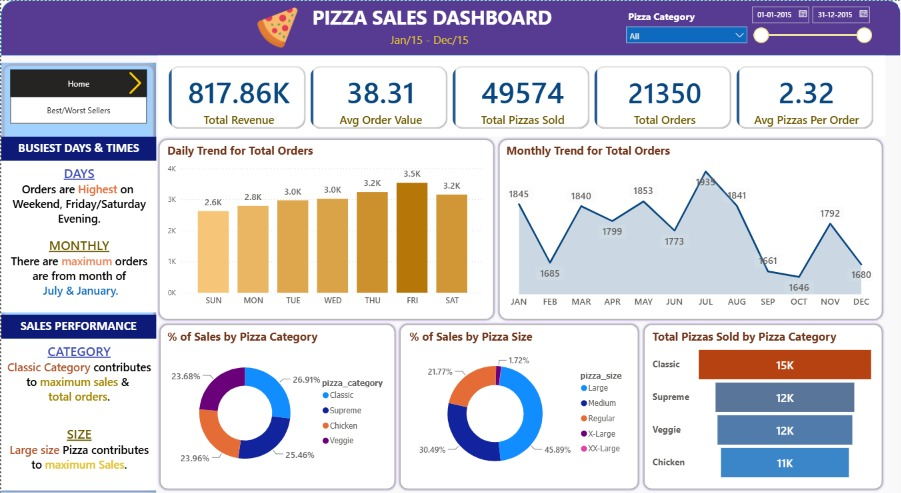

Layout of this report page (visuals, bound fields, positions):
{"tool":"powerbi","page":{"name":"Home","canvas":[1503,826],"ordinal":0},"visuals":[{"type":"shape","box":[0,103.3,258.3,718.3],"z":0},{"type":"shape","box":[0,0,1503.3,91.7],"z":1000},{"type":"cardVisual","fields":{"Data":["pizzadb pizza_sales.Total Revenue","pizzadb pizza_sales.Avg Order Value","pizzadb pizza_sales.Total Pizzas Sold","pizzadb pizza_sales.Total Orders","pizzadb pizza_sales.Avg Pizzas Per Order"]},"box":[261.9,92.2,1213.4,134.6],"z":2000},{"type":"textbox","box":[485,0,470,56.7],"z":3000},{"type":"textbox","box":[645,46.7,148.3,36.7],"z":4000},{"type":"shape","box":[258.2,226.8,568,309.8],"z":5000},{"type":"columnChart","title":"Daily Trend for Total Orders","fields":{"Category":["pizzadb pizza_sales.Order Day"],"Y":["pizzadb pizza_sales.Total Orders"]},"box":[272.9,237.9,538.5,282.2],"z":6000},{"type":"shape","box":[826.2,226.8,649.1,309.8],"z":7000},{"type":"areaChart","title":"Monthly Trend for Total Orders","fields":{"Y":["pizzadb pizza_sales.Total Orders"],"Category":["pizzadb pizza_sales.Order Month"]},"box":[839.1,237.9,623.3,285.8],"z":8000},{"type":"shape","box":[260.1,536.9,401.2,284.2],"z":9000},{"type":"shape","box":[661.3,536.9,406.8,284.2],"z":10000},{"type":"shape","box":[1068.1,536.9,406.8,284.2],"z":11000},{"type":"donutChart","title":"% of Sales by Pizza Category","fields":{"Category":["pizzadb pizza_sales.pizza_category"],"Y":["pizzadb pizza_sales.Total Revenue"]},"box":[271.7,548.3,378.3,256.7],"z":12000},{"type":"donutChart","title":"% of Sales by Pizza Size","fields":{"Y":["pizzadb pizza_sales.Total Revenue"],"Category":["pizzadb pizza_sales.pizza_size"]},"box":[676.7,548.3,376.7,258.3],"z":13000},{"type":"funnel","title":"Total Pizzas Sold by Pizza Category","fields":{"Category":["pizzadb pizza_sales.pizza_category"],"Y":["pizzadb pizza_sales.Total Pizzas Sold"]},"box":[1081.7,548.3,380,258.3],"z":14000},{"type":"textbox","box":[0,226.7,258.3,40],"z":15000},{"type":"textbox","box":[0,266.7,260,253.3],"z":16000},{"type":"textbox","box":[0,525,258.3,40],"z":16001},{"type":"textbox","box":[0,565,260,253.3],"z":16002},{"type":"slicer","fields":{"Values":["pizzadb pizza_sales.pizza_category"]},"box":[1033.3,10,221.7,73.3],"z":16003},{"type":"slicer","fields":{"Values":["pizzadb pizza_sales.order_date"]},"box":[1240,0,221.7,73.3],"z":16004},{"type":"pageNavigator","box":[15,115,228.3,45],"z":16005},{"type":"pageNavigator","box":[15,160,228.3,45],"z":16006},{"type":"image","box":[191.1,118.9,66.7,37.8],"z":16007},{"type":"image","box":[410,10,100,70],"z":16008}]}

Visuals, with their boxes in screenshot pixels (x1, y1, x2, y2), scaled from the page's 1503x826 canvas onto the 901x493 screenshot:
shape: (left=0, top=62, right=155, bottom=490)
shape: (left=0, top=0, right=900, bottom=55)
cardVisual - pizzadb pizza_sales.Total Revenue x pizzadb pizza_sales.Avg Order Value: (left=157, top=55, right=884, bottom=135)
textbox: (left=291, top=0, right=572, bottom=34)
textbox: (left=387, top=28, right=476, bottom=50)
shape: (left=155, top=135, right=495, bottom=320)
"Daily Trend for Total Orders" columnChart: (left=164, top=142, right=486, bottom=310)
shape: (left=495, top=135, right=884, bottom=320)
"Monthly Trend for Total Orders" areaChart: (left=503, top=142, right=877, bottom=313)
shape: (left=156, top=320, right=396, bottom=490)
shape: (left=396, top=320, right=640, bottom=490)
shape: (left=640, top=320, right=884, bottom=490)
"% of Sales by Pizza Category" donutChart: (left=163, top=327, right=390, bottom=480)
"% of Sales by Pizza Size" donutChart: (left=406, top=327, right=631, bottom=481)
"Total Pizzas Sold by Pizza Category" funnel: (left=648, top=327, right=876, bottom=481)
textbox: (left=0, top=135, right=155, bottom=159)
textbox: (left=0, top=159, right=156, bottom=310)
textbox: (left=0, top=313, right=155, bottom=337)
textbox: (left=0, top=337, right=156, bottom=488)
slicer - pizzadb pizza_sales.pizza_category: (left=619, top=6, right=752, bottom=50)
slicer - pizzadb pizza_sales.order_date: (left=743, top=0, right=876, bottom=44)
pageNavigator: (left=9, top=69, right=146, bottom=95)
pageNavigator: (left=9, top=95, right=146, bottom=122)
image: (left=115, top=71, right=155, bottom=94)
image: (left=246, top=6, right=306, bottom=48)
